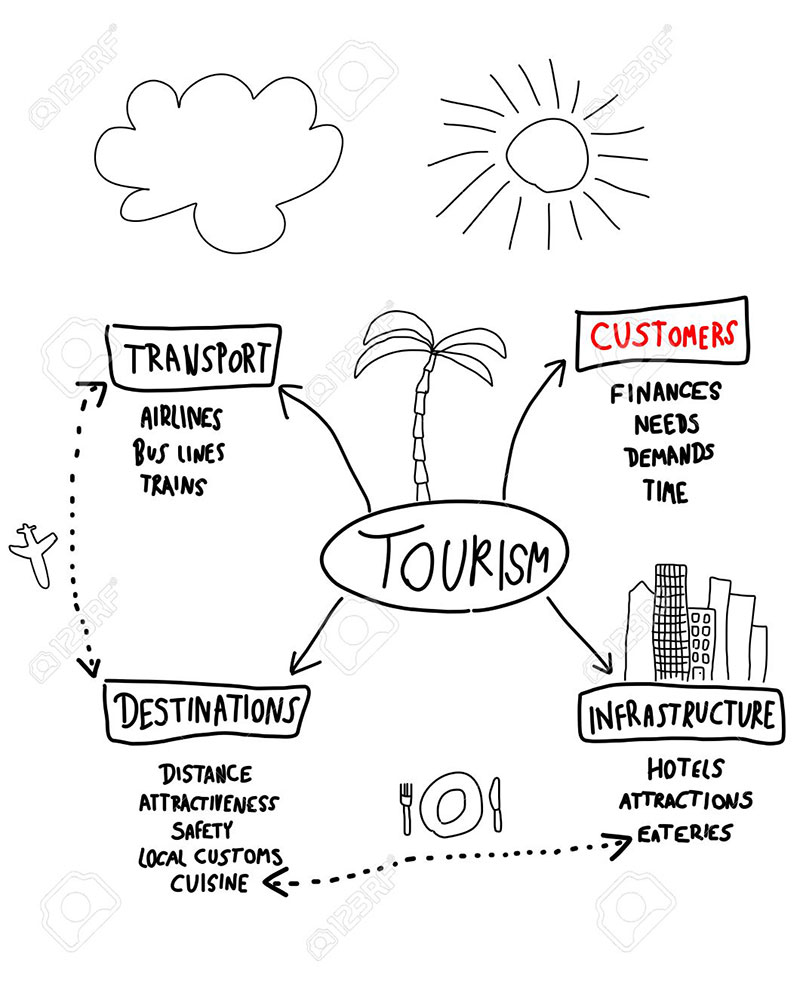circle: (317, 496, 572, 615)
line: (66, 378, 111, 680), (275, 384, 373, 516), (499, 356, 569, 501), (544, 594, 616, 676), (289, 595, 344, 676)
square: (100, 676, 314, 748), (571, 294, 752, 375), (574, 680, 789, 748), (102, 320, 284, 396)
